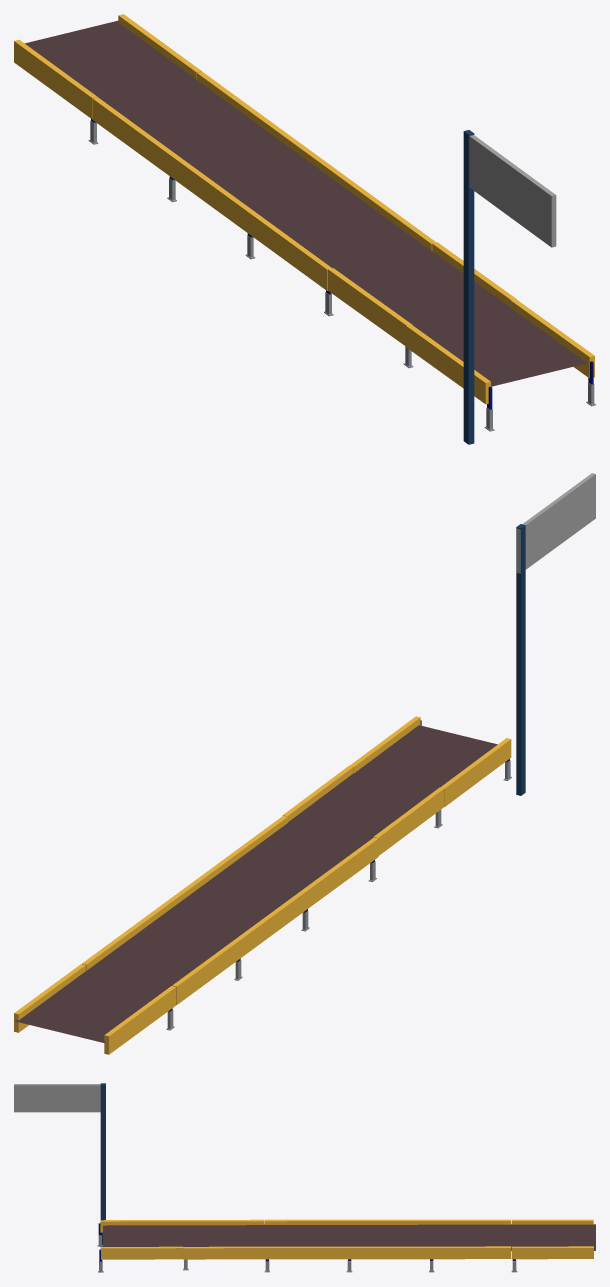
File: LaneNew.glb
3 views of the same model, one above another, from view 1: azimuth 30°, elevation 25°; view 2: azimuth 150°, elevation 25°; view 3: azimuth 270°, elevation 25° (orthographic). The views are drawn at different scales.
Parts seen in each view (by area): view 1: Plane, Cube.001, Cube, m1.043, m1.001, m1.042, m1.040, m1.039, m1.041; view 2: Plane, Cube.001, m1.001, Cube, m1.043, m1.042, m1.039, m1.040, m1.041; view 3: Plane, Cube.001, m1.039, m1.040, m1.041, m1.001, m1.043, m1.042, Cube.
Part boxes in pixels (left/top/right/bottom): Plane: left=25, top=20, right=587, bottom=386; Cube.001: left=469, top=135, right=556, bottom=247; Cube: left=463, top=130, right=474, bottom=444; m1.043: left=406, top=299, right=594, bottom=404; m1.001: left=14, top=14, right=201, bottom=119; m1.042: left=92, top=71, right=280, bottom=176; m1.040: left=249, top=186, right=435, bottom=290; m1.039: left=171, top=129, right=358, bottom=233; m1.041: left=328, top=242, right=516, bottom=346; Plane: left=15, top=725, right=497, bottom=1042; Cube.001: left=516, top=473, right=595, bottom=573; m1.001: left=14, top=964, right=176, bottom=1054; Cube: left=516, top=524, right=525, bottom=795; m1.043: left=349, top=716, right=511, bottom=806; m1.042: left=82, top=914, right=243, bottom=1004; m1.039: left=149, top=865, right=311, bottom=955; m1.040: left=216, top=815, right=378, bottom=905; m1.041: left=282, top=766, right=444, bottom=855; Plane: left=103, top=1224, right=595, bottom=1250; Cube.001: left=14, top=1084, right=100, bottom=1112; m1.039: left=346, top=1219, right=428, bottom=1259; m1.040: left=264, top=1219, right=346, bottom=1259; m1.041: left=182, top=1219, right=264, bottom=1259; m1.001: left=511, top=1219, right=593, bottom=1259; m1.043: left=100, top=1220, right=182, bottom=1259; m1.042: left=429, top=1219, right=510, bottom=1259; Cube: left=100, top=1083, right=105, bottom=1246.
Bounding box in the file's own units: 11.29 × 26.39 × 85.32.
Materials: 6 (1 with a texture image).
